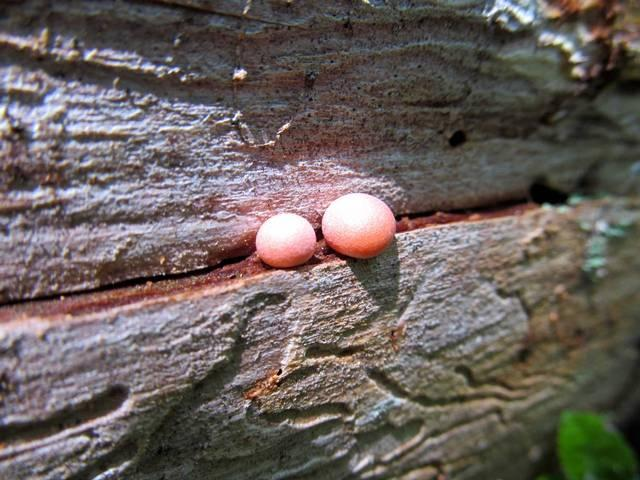Non-edible Mushroom: (320, 191, 396, 259), (254, 211, 316, 268)
